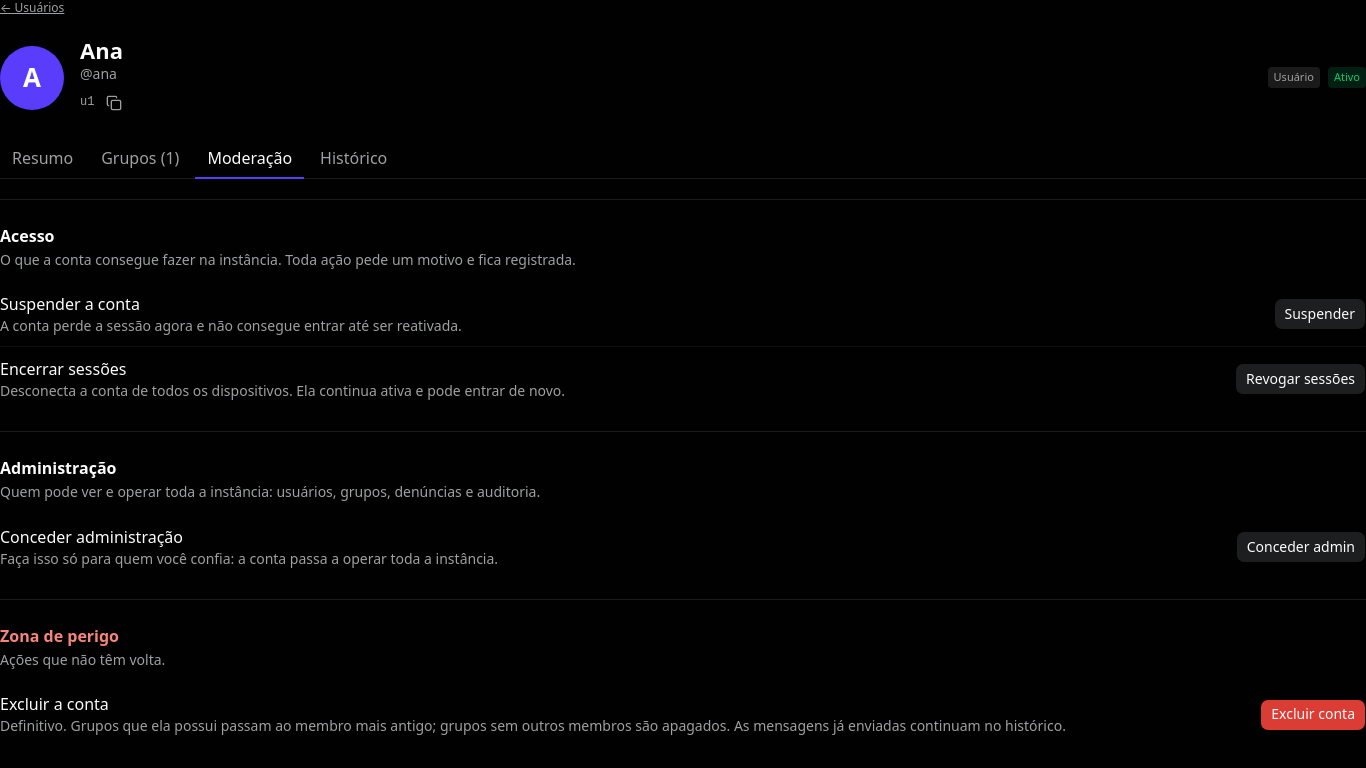
Scenario: UserDetailPage › suspending an account somebody else already suspended explains it and re-reads
Step 1. Click the button "Suspender" → (1320,314), box [1274, 298, 1365, 330]
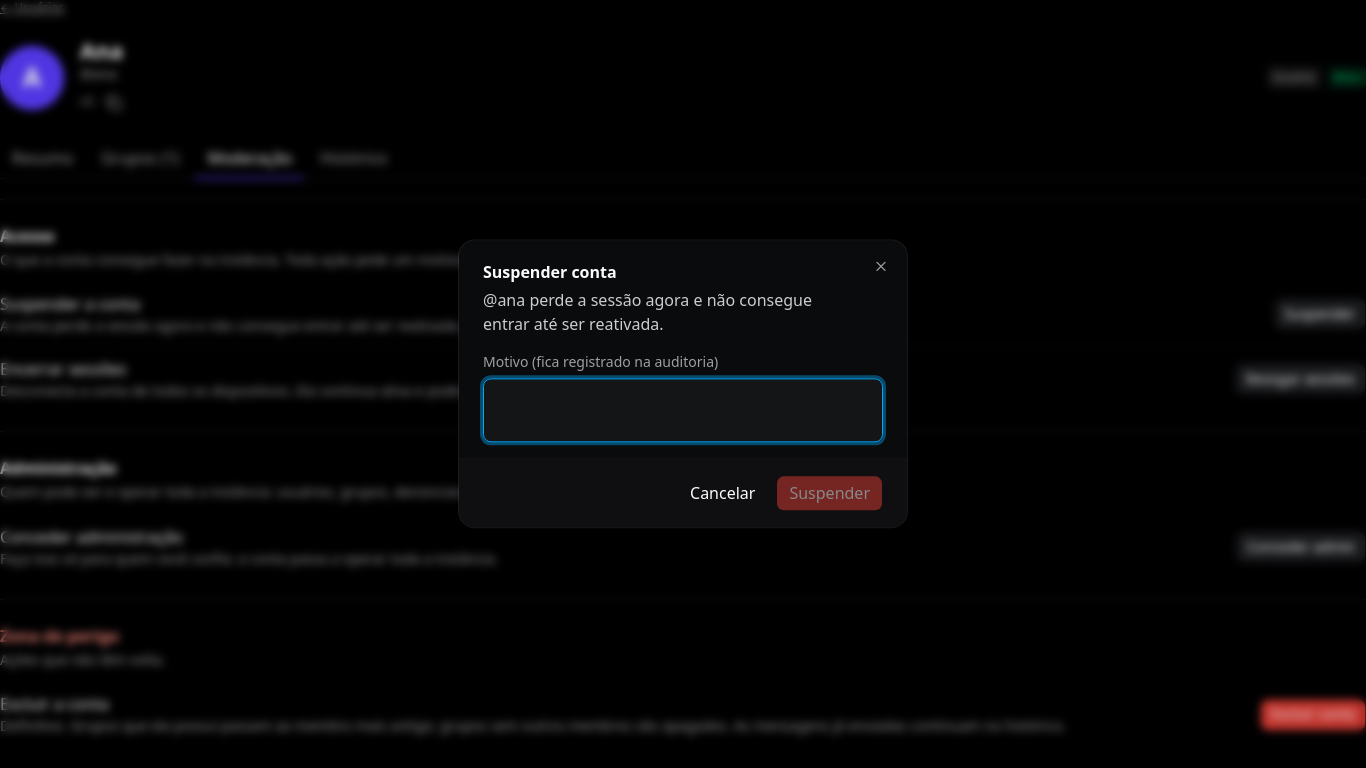
Step 2. Type "confirmed spam" into the text box labelled "Motivo (fica registrado na auditoria)" → (683,411), box [483, 379, 883, 443]
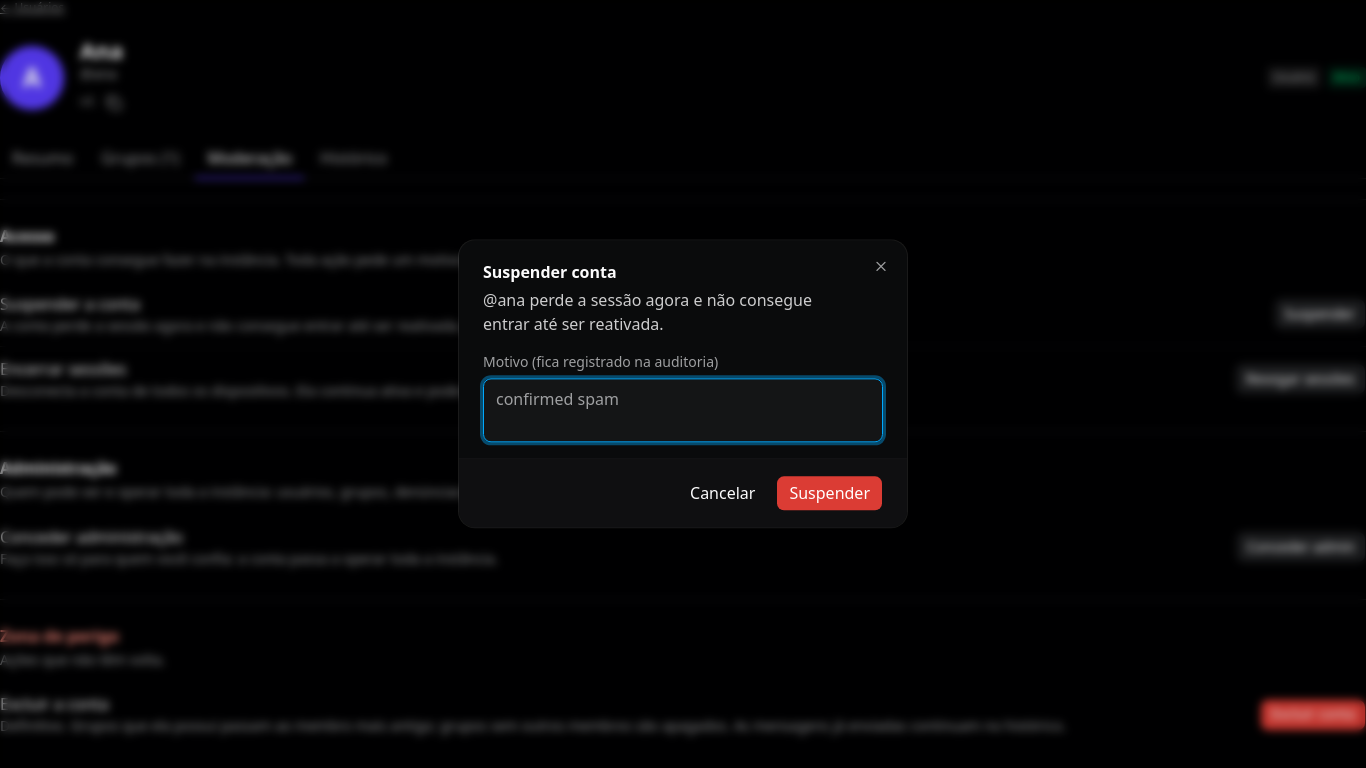
Step 3. Click the button "Suspender" → (830,494), box [776, 476, 883, 512]
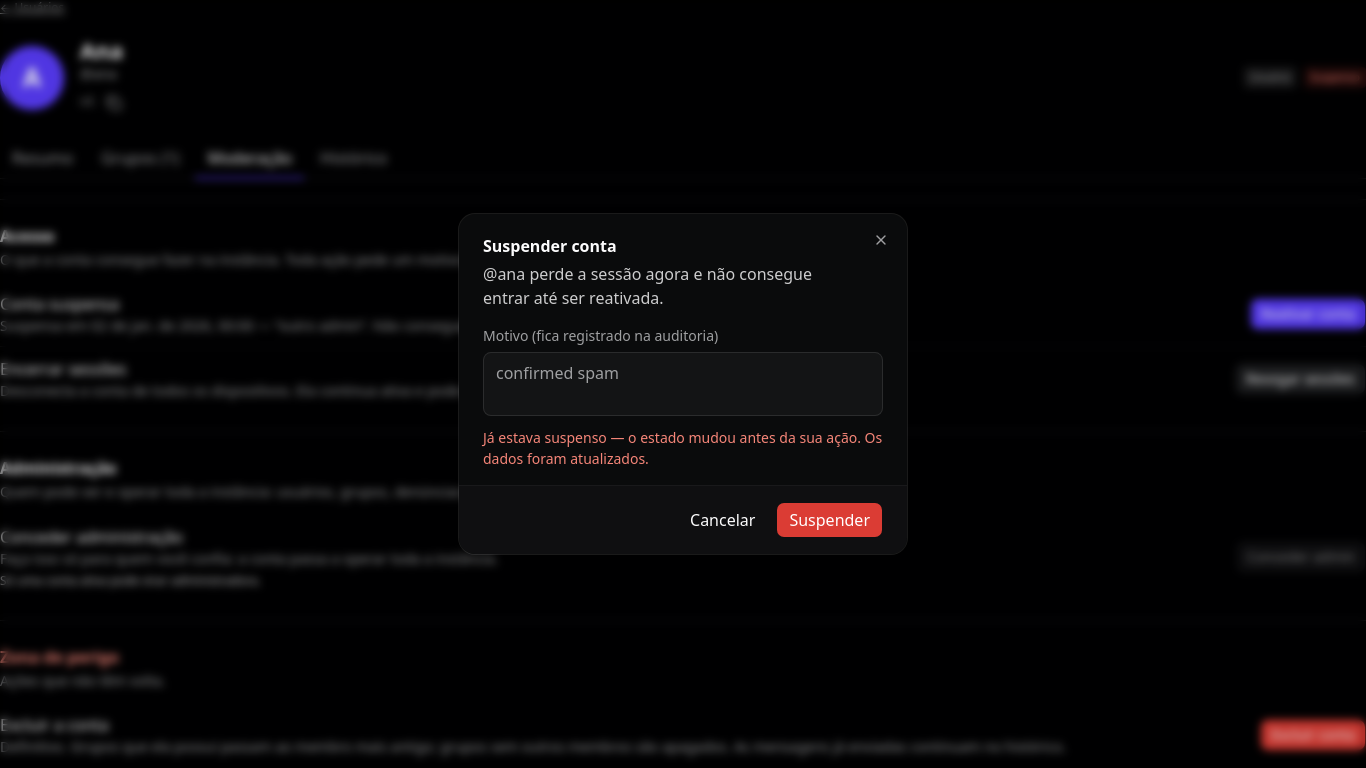
Expected: the message shows "Já estava suspenso", [483, 428, 882, 468]
